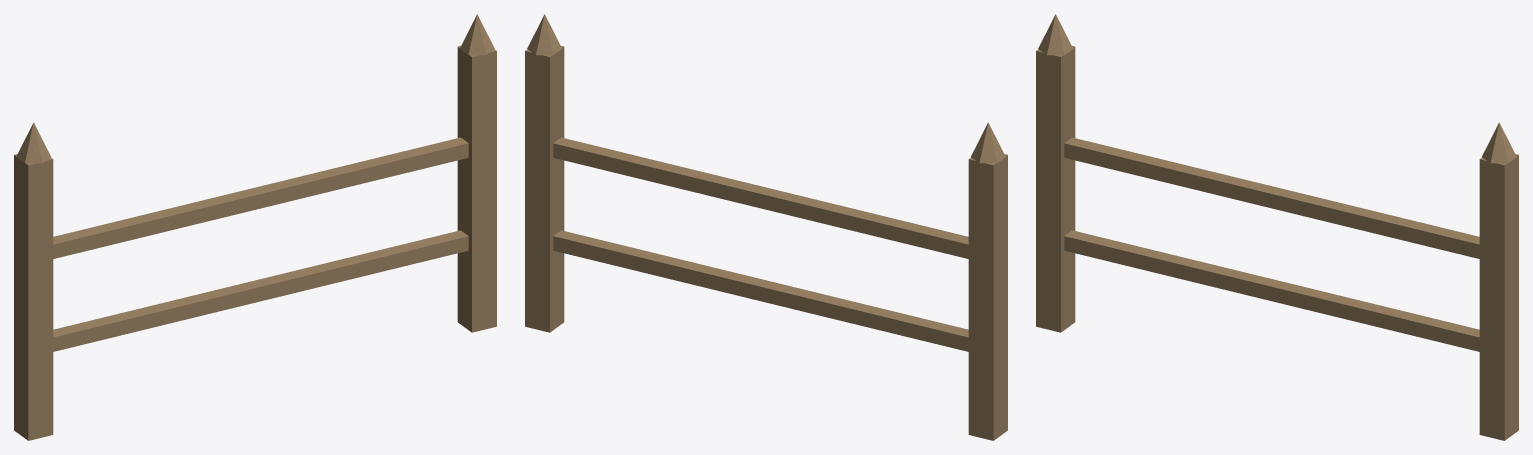
The model's file is fence.glb.
3 views of the same model, side by side, from view 1: azimuth 30°, elevation 25°; view 2: azimuth 150°, elevation 25°; view 3: azimuth 330°, elevation 25° (orthographic).
Visible parts, largest first — view 1: Fence_Post_-1, Fence_Post_+1, Fence_Rail_0.62, Fence_Rail_0.30, Fence_Cap_+1, Fence_Cap_-1; view 2: Fence_Post_-1, Fence_Post_+1, Fence_Rail_0.62, Fence_Rail_0.30, Fence_Cap_+1, Fence_Cap_-1; view 3: Fence_Post_+1, Fence_Post_-1, Fence_Rail_0.62, Fence_Rail_0.30, Fence_Cap_-1, Fence_Cap_+1.
Part boxes in pixels (x1=…): Fence_Post_-1: x1=14, y1=154, x2=53, y2=440; Fence_Post_+1: x1=457, y1=46, x2=496, y2=332; Fence_Rail_0.62: x1=53, y1=137, x2=468, y2=258; Fence_Rail_0.30: x1=53, y1=230, x2=468, y2=351; Fence_Cap_+1: x1=460, y1=14, x2=494, y2=55; Fence_Cap_-1: x1=16, y1=122, x2=50, y2=163; Fence_Post_-1: x1=968, y1=154, x2=1007, y2=440; Fence_Post_+1: x1=525, y1=46, x2=564, y2=332; Fence_Rail_0.62: x1=553, y1=137, x2=968, y2=258; Fence_Rail_0.30: x1=553, y1=230, x2=968, y2=351; Fence_Cap_+1: x1=527, y1=14, x2=561, y2=55; Fence_Cap_-1: x1=971, y1=122, x2=1005, y2=163; Fence_Post_+1: x1=1479, y1=154, x2=1518, y2=440; Fence_Post_-1: x1=1036, y1=46, x2=1075, y2=332; Fence_Rail_0.62: x1=1064, y1=137, x2=1479, y2=258; Fence_Rail_0.30: x1=1064, y1=230, x2=1479, y2=351; Fence_Cap_-1: x1=1038, y1=14, x2=1072, y2=55; Fence_Cap_+1: x1=1482, y1=122, x2=1516, y2=163.
Size of the model in its own units: 1.7 by 1.07 by 0.11.
